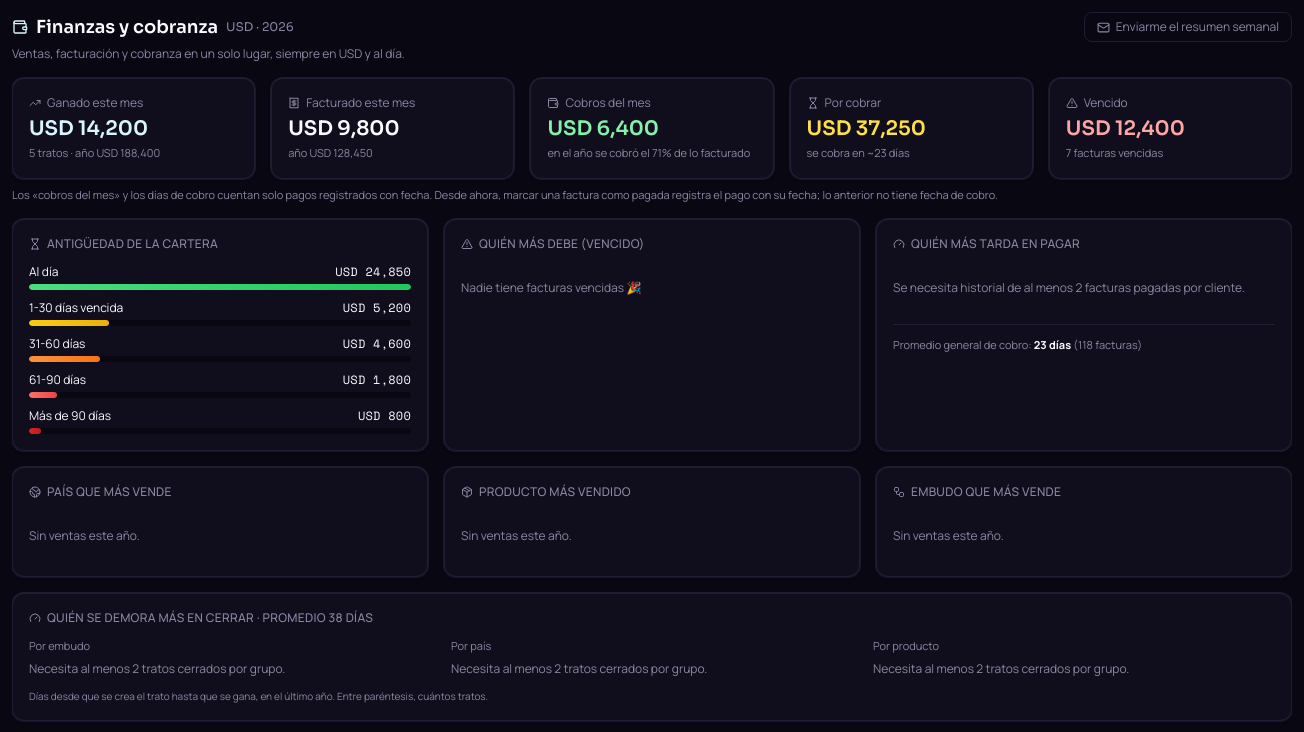
it: Resumen semanal › si el correo falla, muestra el motivo
Click the button "Enviarme el resumen semanal": x=1188, y=27 [1084,12,1292,42]
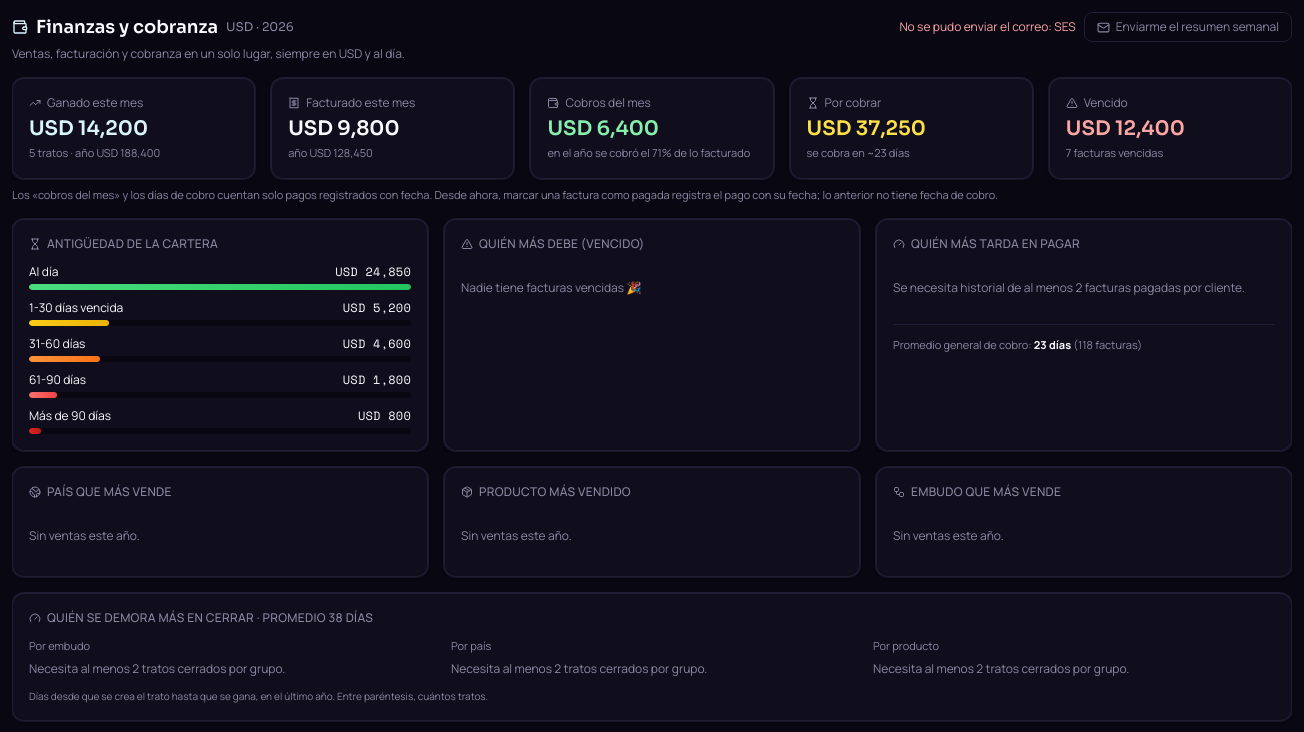
Check: the text "No se pudo enviar el correo: SES" is shown, box [899,19,1076,35]
